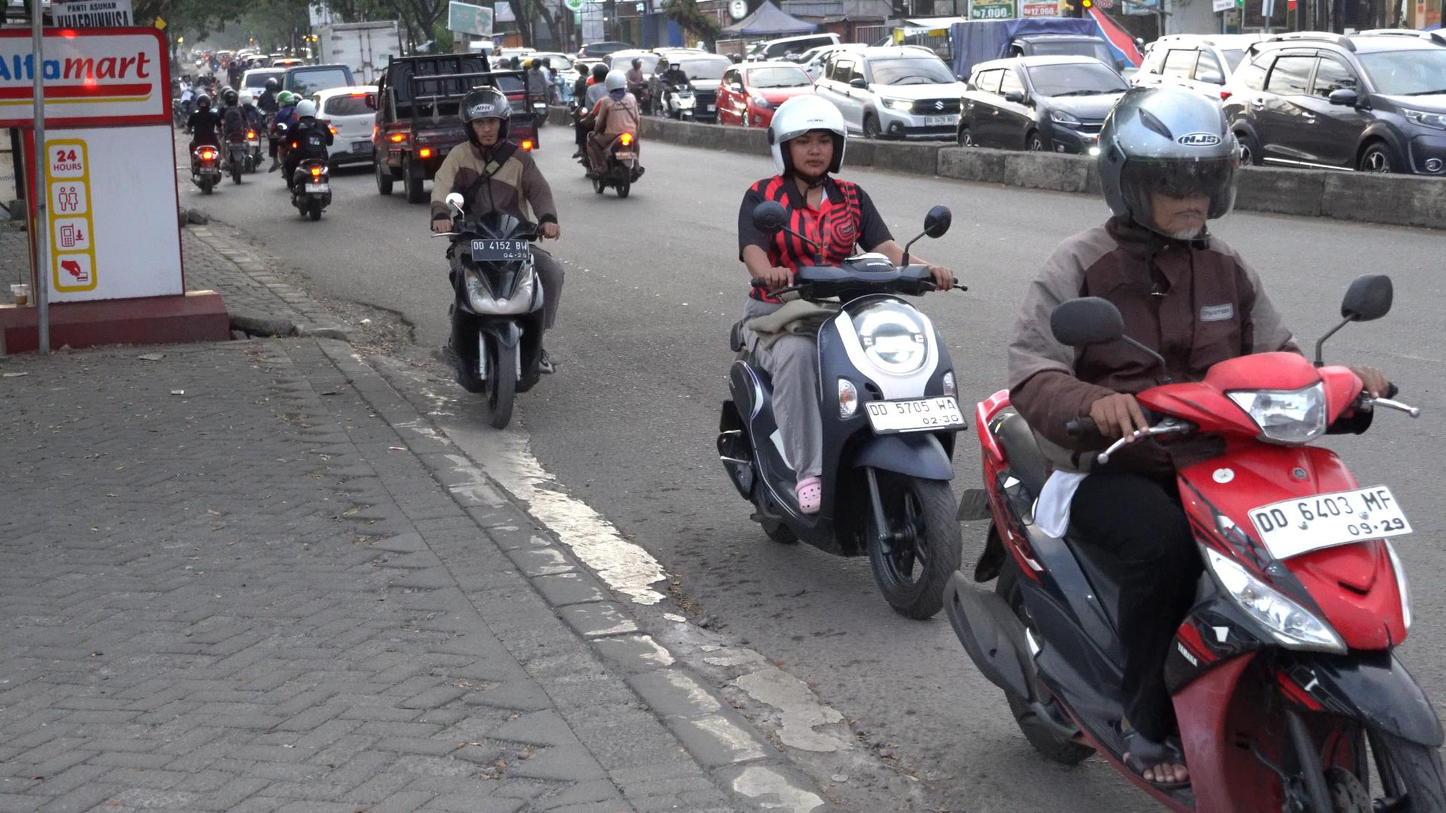number-plate: (1245, 482, 1416, 556), (861, 397, 967, 436), (467, 236, 535, 263)
